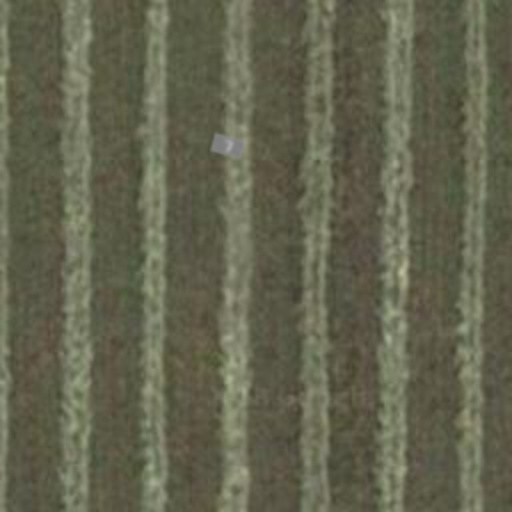rectangle: (208, 126, 248, 166)
